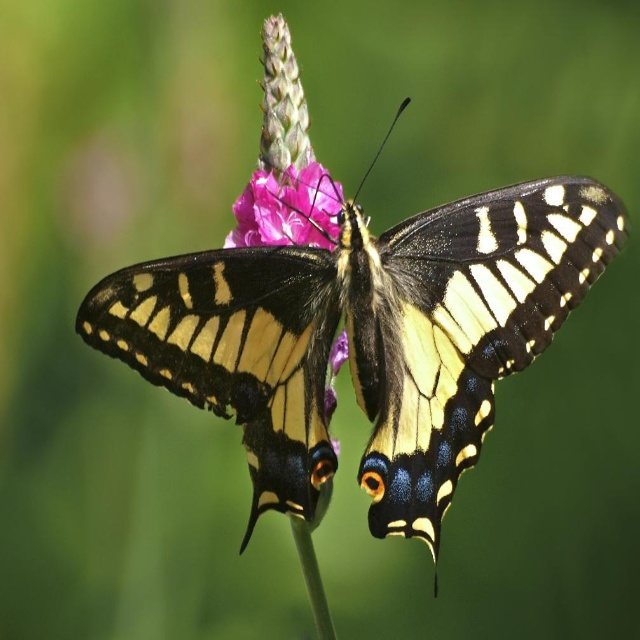Butterfly: (90, 80, 616, 564)
